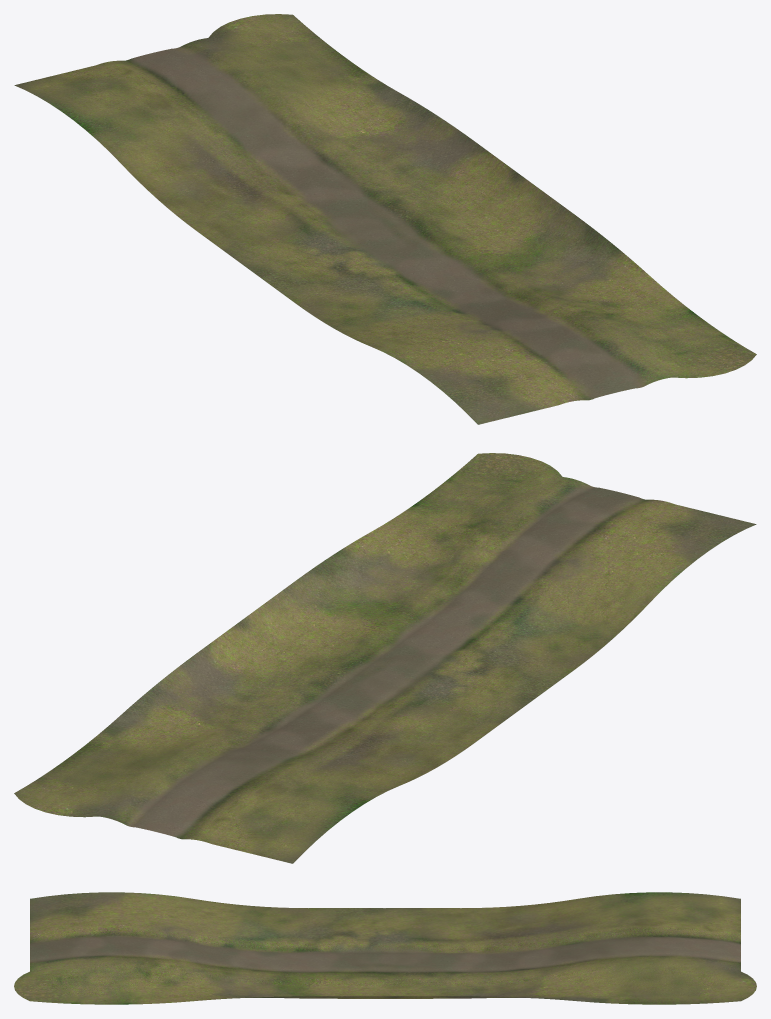
Rendered from road.glb.
3 views of the same model, one above another, from view 1: azimuth 30°, elevation 25°; view 2: azimuth 150°, elevation 25°; view 3: azimuth 270°, elevation 25° (orthographic). The views are drawn at different scales.
Visible parts, largest first — view 1: Object_2; view 2: Object_2; view 3: Object_2.
Part boxes in pixels (bbox=[...]): Object_2: bbox=[14, 14, 756, 424]; Object_2: bbox=[14, 453, 756, 863]; Object_2: bbox=[14, 892, 756, 1004].
Size of the model in its own units: 11.75 by 0.9532 by 35.37.
Materials: 1 (1 with a texture image).
